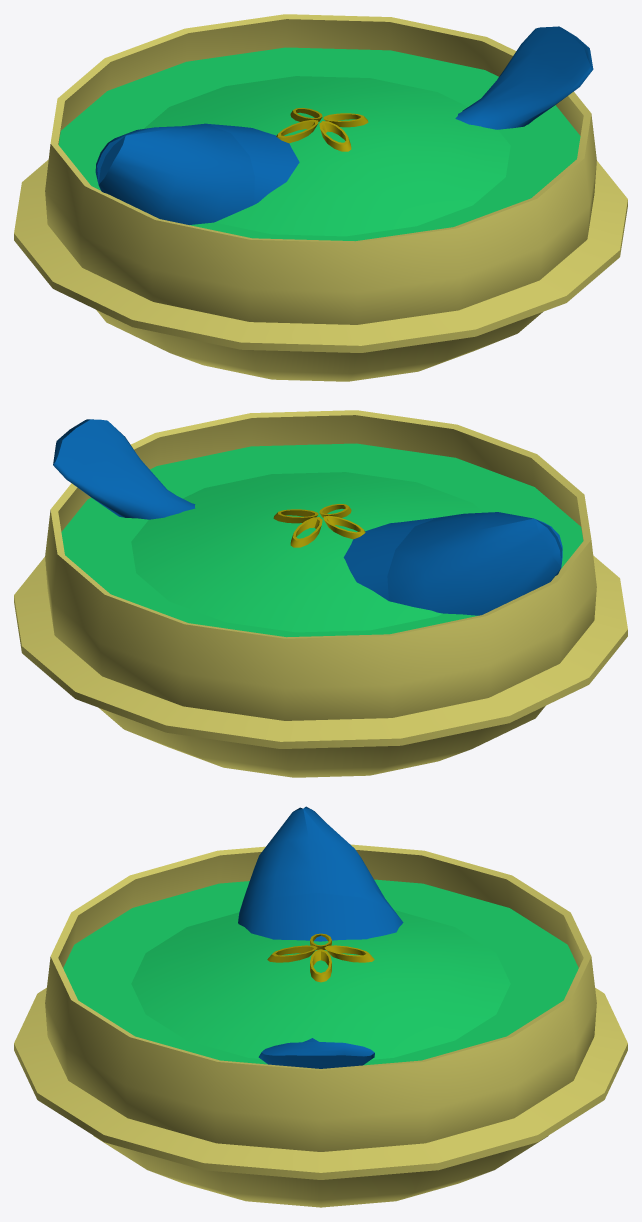
The model's file is Spicy Rockfish Stew.fbx.
The picture shows the model from 3 angles, top to bottom: view 1: azimuth 30°, elevation 25°; view 2: azimuth 150°, elevation 25°; view 3: azimuth 270°, elevation 25°; orthographic projection.
Parts seen in each view (by area): view 1: Spicy Rockfish Stew; view 2: Spicy Rockfish Stew; view 3: Spicy Rockfish Stew.
Boxes of the visible parts, left/top/right/bottom form: Spicy Rockfish Stew: left=14, top=14, right=627, bottom=381; Spicy Rockfish Stew: left=14, top=410, right=627, bottom=777; Spicy Rockfish Stew: left=14, top=806, right=627, bottom=1207.
Size of the model in its own units: 46.56 by 46.56 by 19.81.
